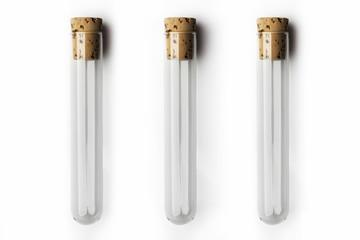Test tube: (151, 1, 212, 229), (59, 5, 109, 213), (249, 8, 289, 220)
